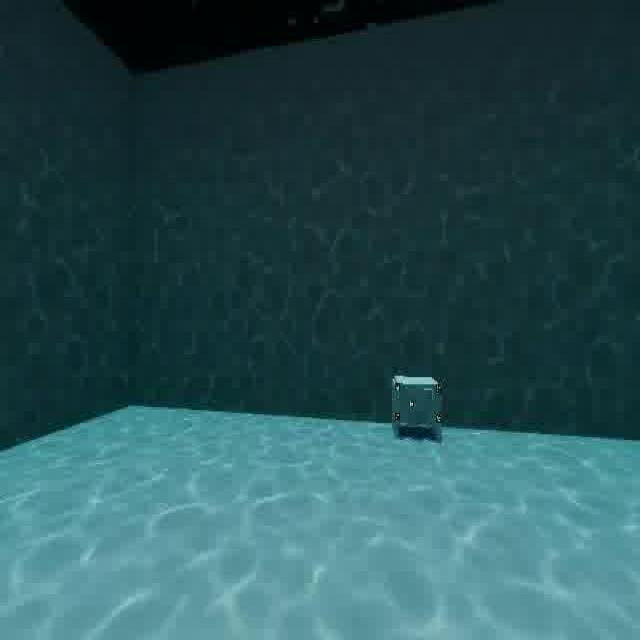Docking Station: (384, 362, 456, 452)
